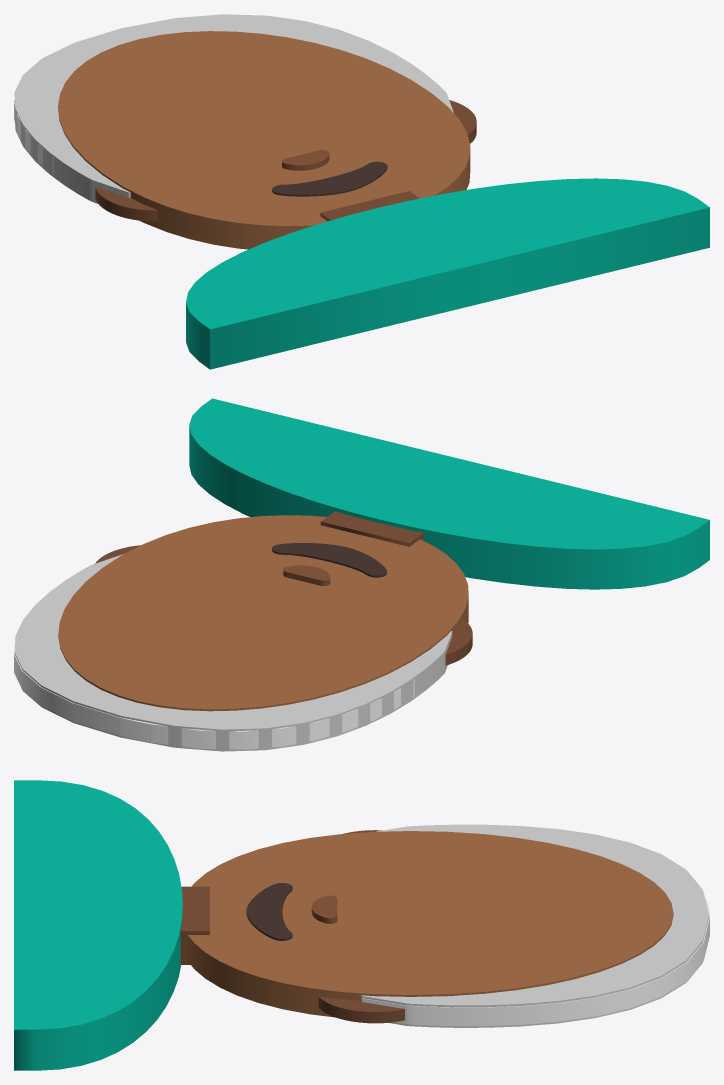
The model's file is emoji_u1f468_1f3fe_200d_1f9b3.glb.
The picture shows the model from 3 angles, top to bottom: view 1: azimuth 30°, elevation 25°; view 2: azimuth 150°, elevation 25°; view 3: azimuth 270°, elevation 25°; orthographic projection. The views are drawn at different scales.
Parts seen in each view (by area): view 1: emoji_u1f468_1f3fe_200d_1f9b3; view 2: emoji_u1f468_1f3fe_200d_1f9b3; view 3: emoji_u1f468_1f3fe_200d_1f9b3.
Boxes of the visible parts, x1,y1,x2,y2 form: emoji_u1f468_1f3fe_200d_1f9b3: (14,14,709,369); emoji_u1f468_1f3fe_200d_1f9b3: (14,398,709,751); emoji_u1f468_1f3fe_200d_1f9b3: (14,780,709,1070).
Bounding box in the file's own units: 0.0286 × 0.0022 × 0.0337.
